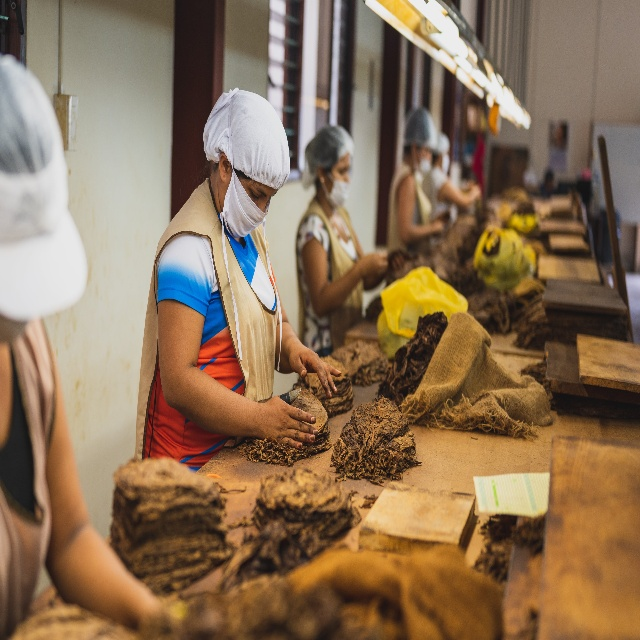Sin_guantes: (262, 386, 318, 451), (290, 337, 342, 396), (360, 250, 388, 282)
